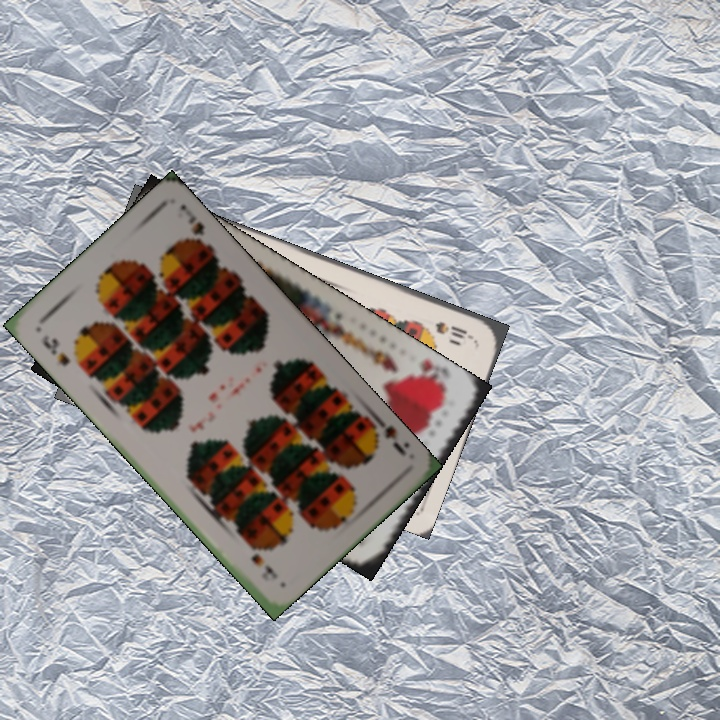HK: (407, 354, 439, 381)
S10: (431, 317, 476, 342)
S9: (363, 410, 412, 459), (37, 331, 73, 369)
